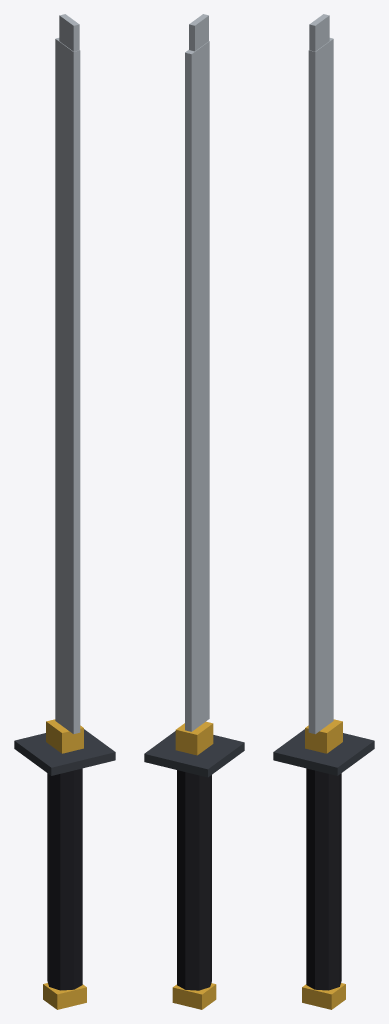
File: Weapon_Katana.obj
3 renders of one model, left to right at view 1: azimuth 30°, elevation 25°; view 2: azimuth 150°, elevation 25°; view 3: azimuth 330°, elevation 25°, orthographic.
Parts seen in each view (by area): view 1: KatanaBlade, TsukaHandle, TsubaGuard, HabakiCollar, KashiraPommel, KissakiTip; view 2: KatanaBlade, TsukaHandle, TsubaGuard, HabakiCollar, KashiraPommel, KissakiTip; view 3: KatanaBlade, TsukaHandle, TsubaGuard, HabakiCollar, KashiraPommel, KissakiTip.
Part boxes in pixels (box(x1,y1,x2,y2)): KatanaBlade: box(55, 38, 80, 734); TsukaHandle: box(47, 768, 82, 990); TsubaGuard: box(14, 729, 115, 775); HabakiCollar: box(46, 719, 83, 753); KashiraPommel: box(43, 983, 86, 1009); KissakiTip: box(59, 14, 79, 51); KatanaBlade: box(185, 41, 209, 731); TsukaHandle: box(177, 770, 211, 990); TsubaGuard: box(144, 731, 244, 777); HabakiCollar: box(175, 721, 213, 755); KashiraPommel: box(172, 983, 216, 1009); KissakiTip: box(189, 14, 208, 51); KatanaBlade: box(308, 38, 333, 734); TsukaHandle: box(306, 768, 341, 990); TsubaGuard: box(273, 729, 374, 775); HabakiCollar: box(305, 719, 342, 753); KashiraPommel: box(302, 983, 345, 1009); KissakiTip: box(309, 14, 329, 51).
Bounding box in the file's own units: 0.065 × 0.9525 × 0.065.
